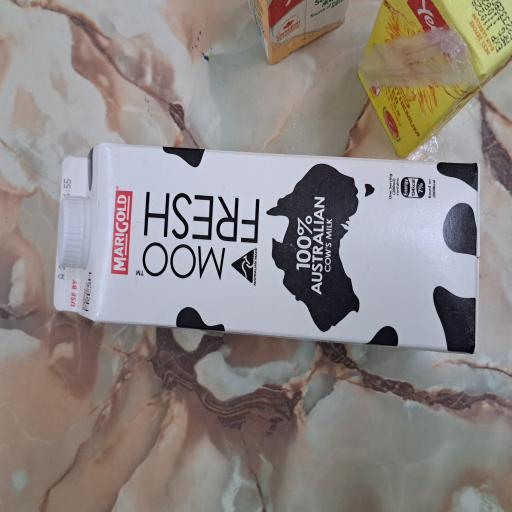drink carton: (52, 140, 481, 354), (355, 0, 512, 159), (246, 0, 349, 65)
plastic bottle cap: (58, 193, 92, 269)
